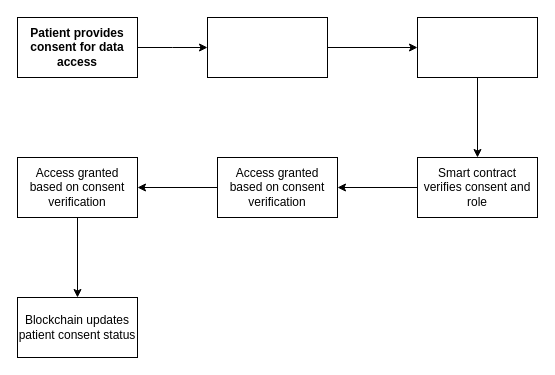
Some shapes in this 555 by 375 pixel diagram are drawn without their labels. The shapes that lost their labels are listed below. From the top down, each one's centre as x and y in pixels, then its label:
At point (267, 47): "Consent is stored on blockchain (metadata & hash)".
At point (477, 47): "Healthcare provider requests access".
